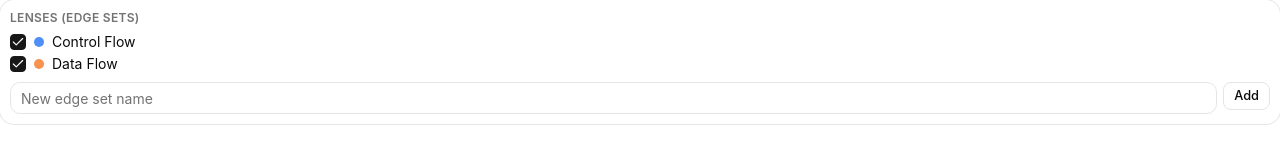
it: EdgeSetTogglePanel › adding a new edge set appends it and activates it
Type "Security" into the field with placeholder "New edge set name" at coordinates (614, 98), box x1=10 y1=82 x2=1217 y2=114
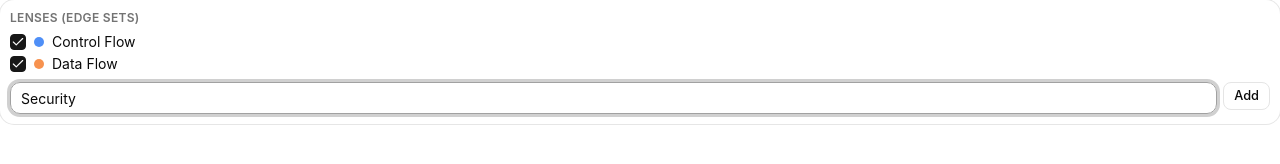
Click the button "Add" at coordinates (1247, 96), box x1=1223 y1=82 x2=1270 y2=110
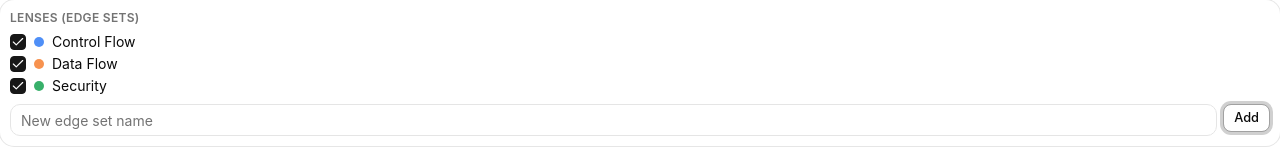
Check: the checkbox named "Security" next to "Security" is checked, box x1=10 y1=78 x2=26 y2=94
